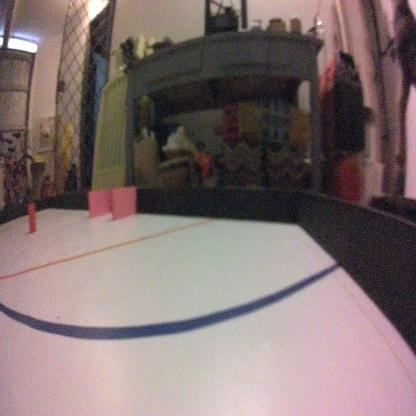magenta: (111, 183, 135, 221), (86, 186, 115, 217)
red: (26, 197, 37, 238)
